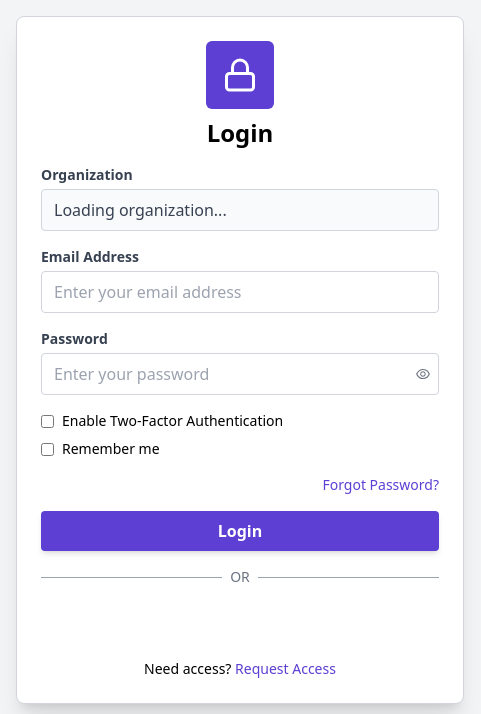
Login component › shows error if login throws a generic error
Type "test@test.com" into the field with placeholder "Enter your email address" at (240, 292), box [41,271,439,313]
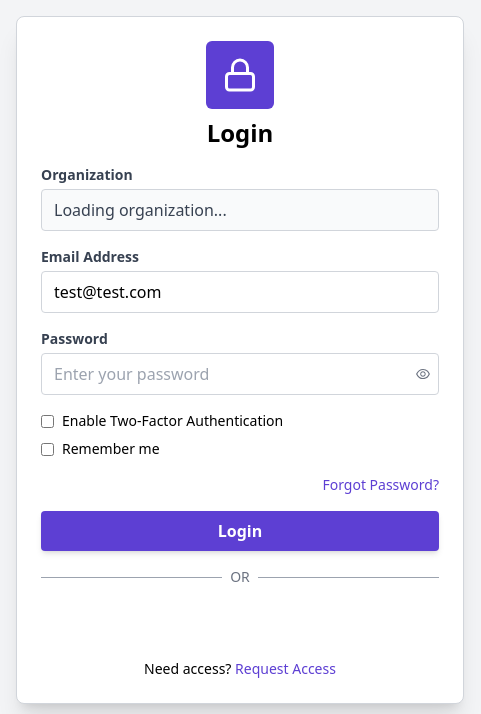
Type "wrongpass" into the password field with placeholder "Enter your password" at (240, 374), box [41,353,439,395]
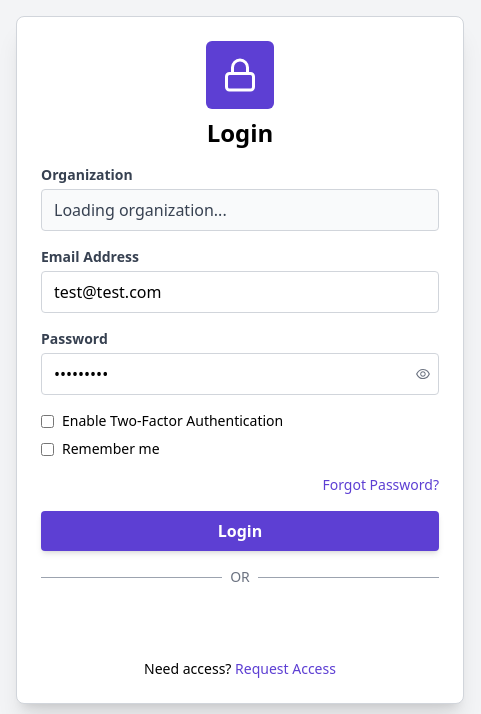
Click the button "Login" at (240, 531), box [41,511,439,551]
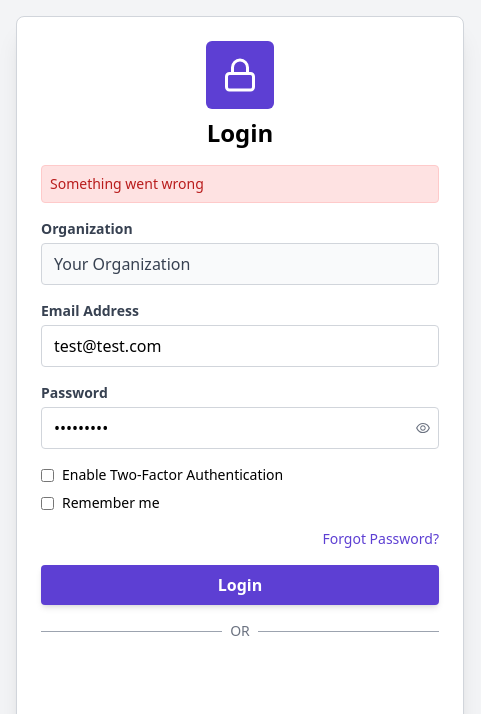
Result: the text "Something went wrong" is shown at [41,165,439,203]
